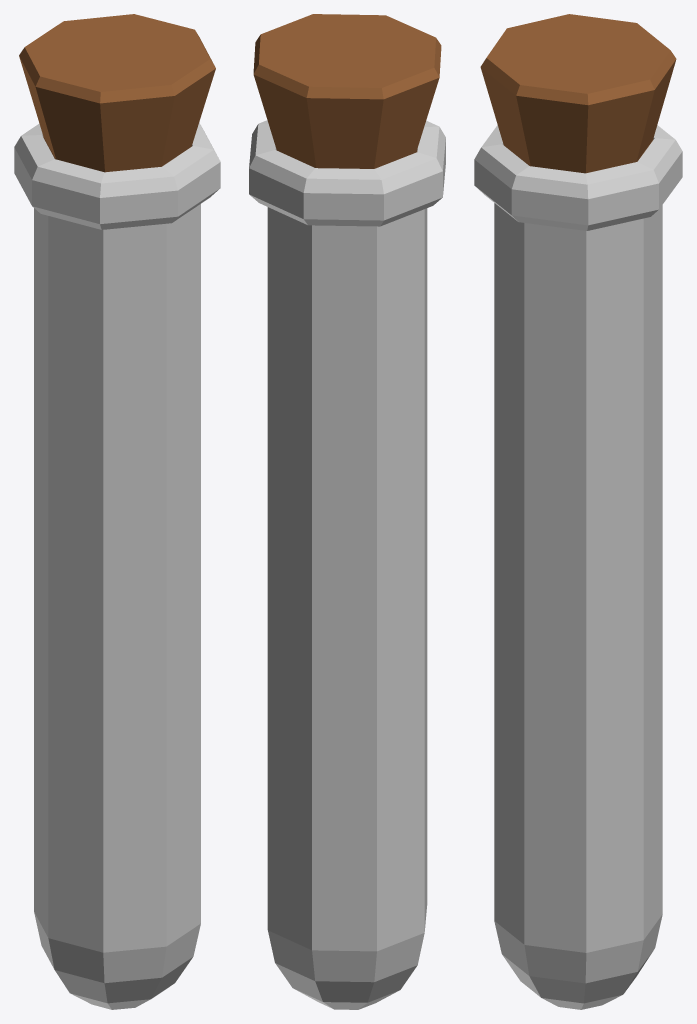
Rendered from PotionTube.fbx.
The picture shows the model from 3 angles, left to right: view 1: azimuth 30°, elevation 25°; view 2: azimuth 150°, elevation 25°; view 3: azimuth 270°, elevation 25°; orthographic projection.
Parts seen in each view (by area): view 1: PotionTube.022; view 2: PotionTube.022; view 3: PotionTube.022.
Part boxes in pixels (x1,y1,x2,y2): PotionTube.022: (14, 14, 220, 1009); PotionTube.022: (249, 14, 445, 1009); PotionTube.022: (474, 14, 682, 1009).
Bounding box in the file's own units: 7.17 × 36 × 7.17.
